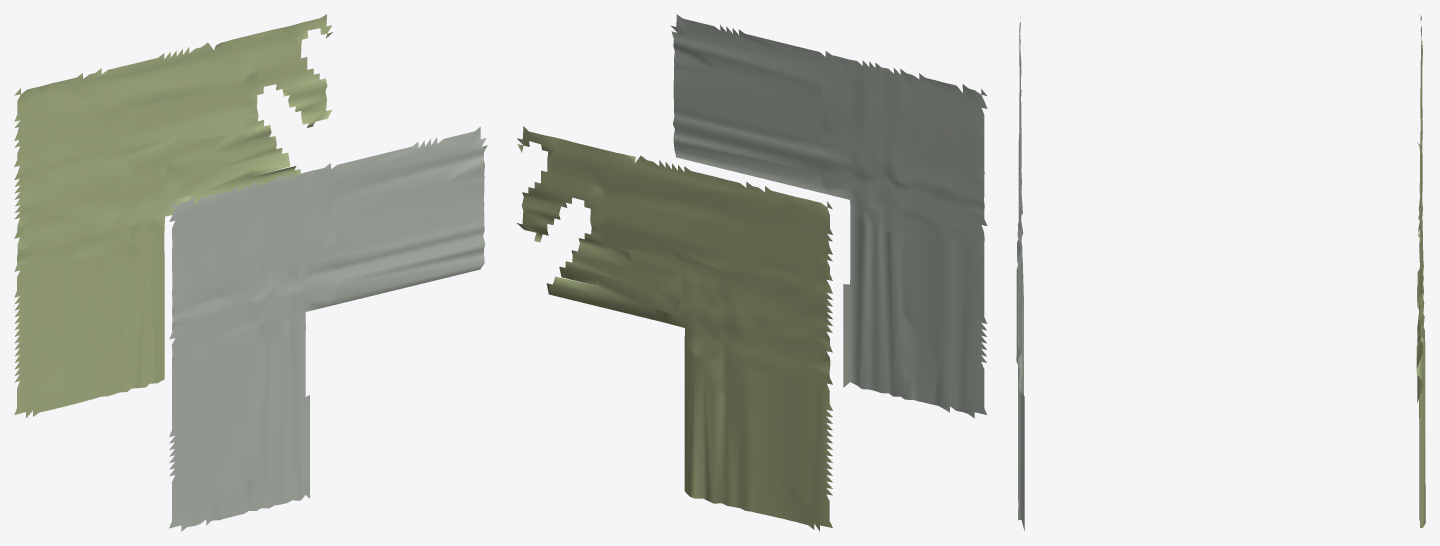
Rendered from tile_7e4ccbd5fe0e_0_0_-1_0_lod2.glb.
The picture shows the model from 3 angles, left to right: view 1: azimuth 30°, elevation 25°; view 2: azimuth 150°, elevation 25°; view 3: azimuth 270°, elevation 25°; orthographic projection. The views are drawn at different scales.
Bounding box in the file's own units: 4.08 × 4.08 × 3.5.
